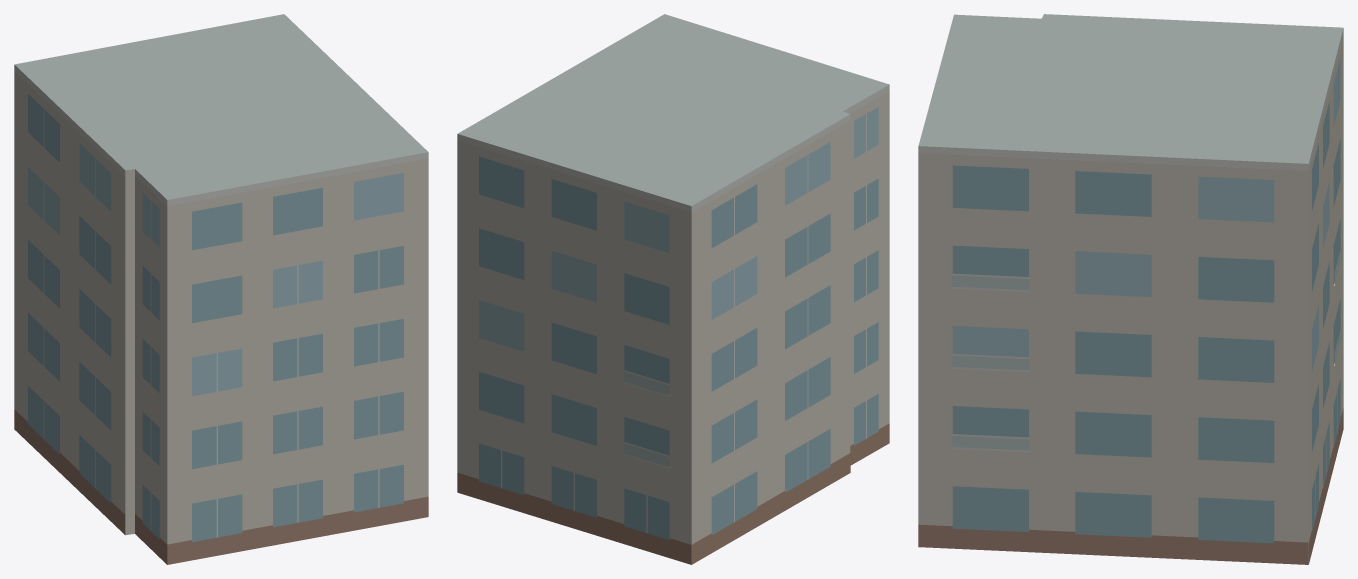
File: survey-upis-32670567.glb
3 renders of one model, left to right at view 1: azimuth 30°, elevation 25°; view 2: azimuth 150°, elevation 25°; view 3: azimuth 270°, elevation 25°, orthographic. The views are drawn at different scales.
Parts seen in each view (by area): view 1: survey-upis-32670567.tmp; view 2: survey-upis-32670567.tmp; view 3: survey-upis-32670567.tmp.
Boxes of the visible parts, x1=… form: survey-upis-32670567.tmp: x1=14, y1=14, x2=428, y2=564; survey-upis-32670567.tmp: x1=457, y1=14, x2=889, y2=564; survey-upis-32670567.tmp: x1=918, y1=14, x2=1343, y2=564.
Bounding box in the file's own units: 11.15 × 13.9 × 13.37.
